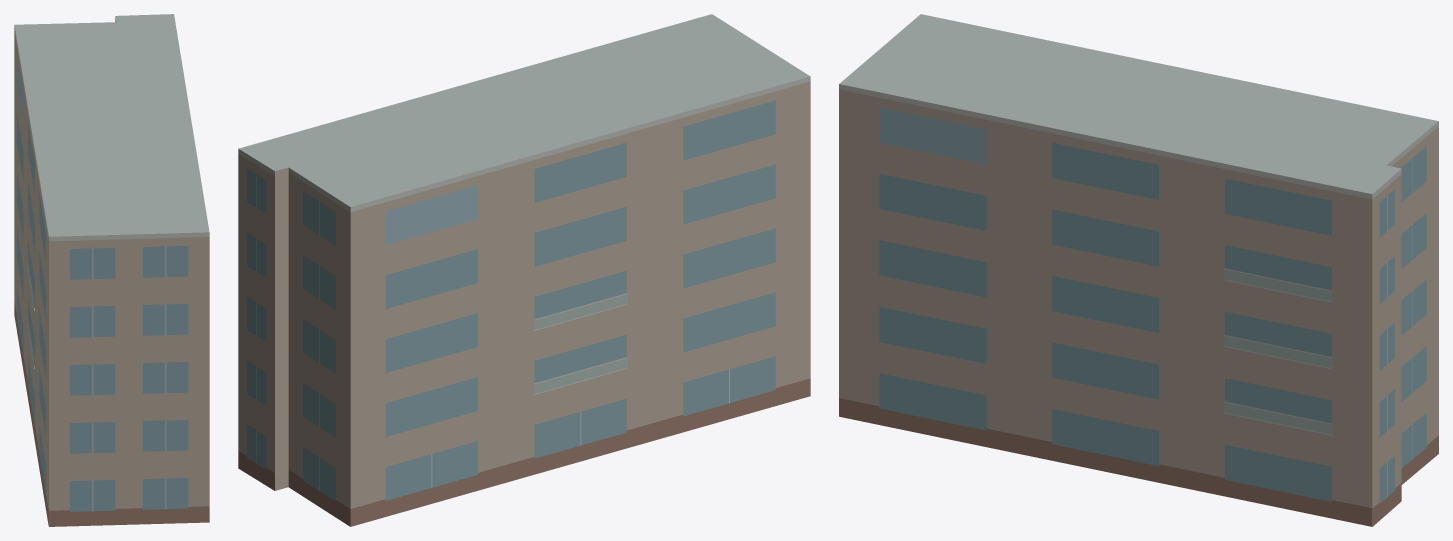
The model's file is survey-upis-32726266.glb.
The picture shows the model from 3 angles, left to right: view 1: azimuth 30°, elevation 25°; view 2: azimuth 150°, elevation 25°; view 3: azimuth 270°, elevation 25°; orthographic projection. The views are drawn at different scales.
Visible parts, largest first — view 1: survey-upis-32726266.tmp; view 2: survey-upis-32726266.tmp; view 3: survey-upis-32726266.tmp.
Part boxes in pixels (x1,y1,x2,y2): survey-upis-32726266.tmp: (14,14,209,526); survey-upis-32726266.tmp: (238,14,810,526); survey-upis-32726266.tmp: (839,14,1438,526).
Size of the model in its own units: 17.91 by 15.4 by 25.17.
